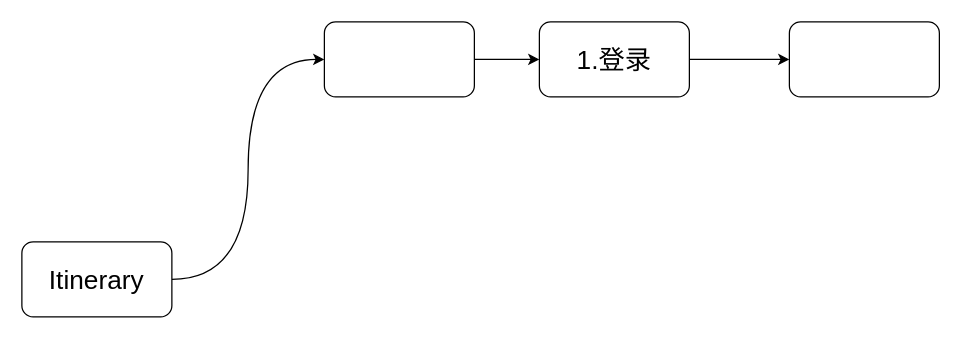
The diagram is 961 pixels wide and 339 high, and some of its shapes have lost their labels. Each missing label, with the centre of its shape:
2. 计划去哪: point 863,59
首次: point 398,59
